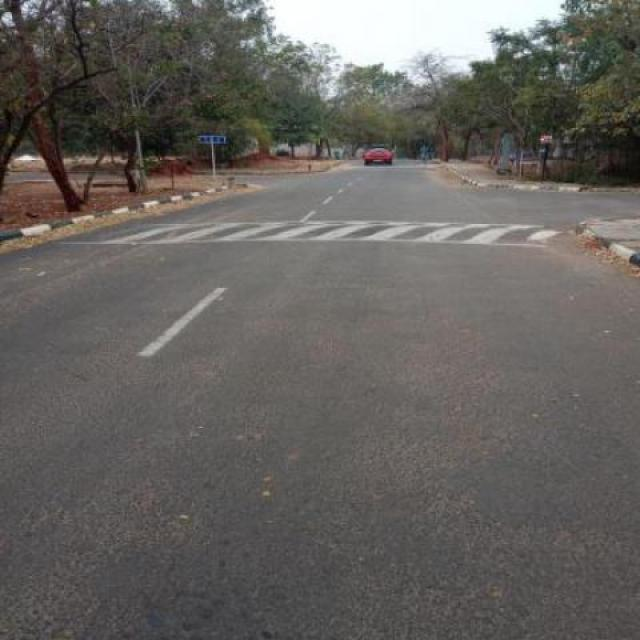Speed Bump: (57, 220, 592, 248)
